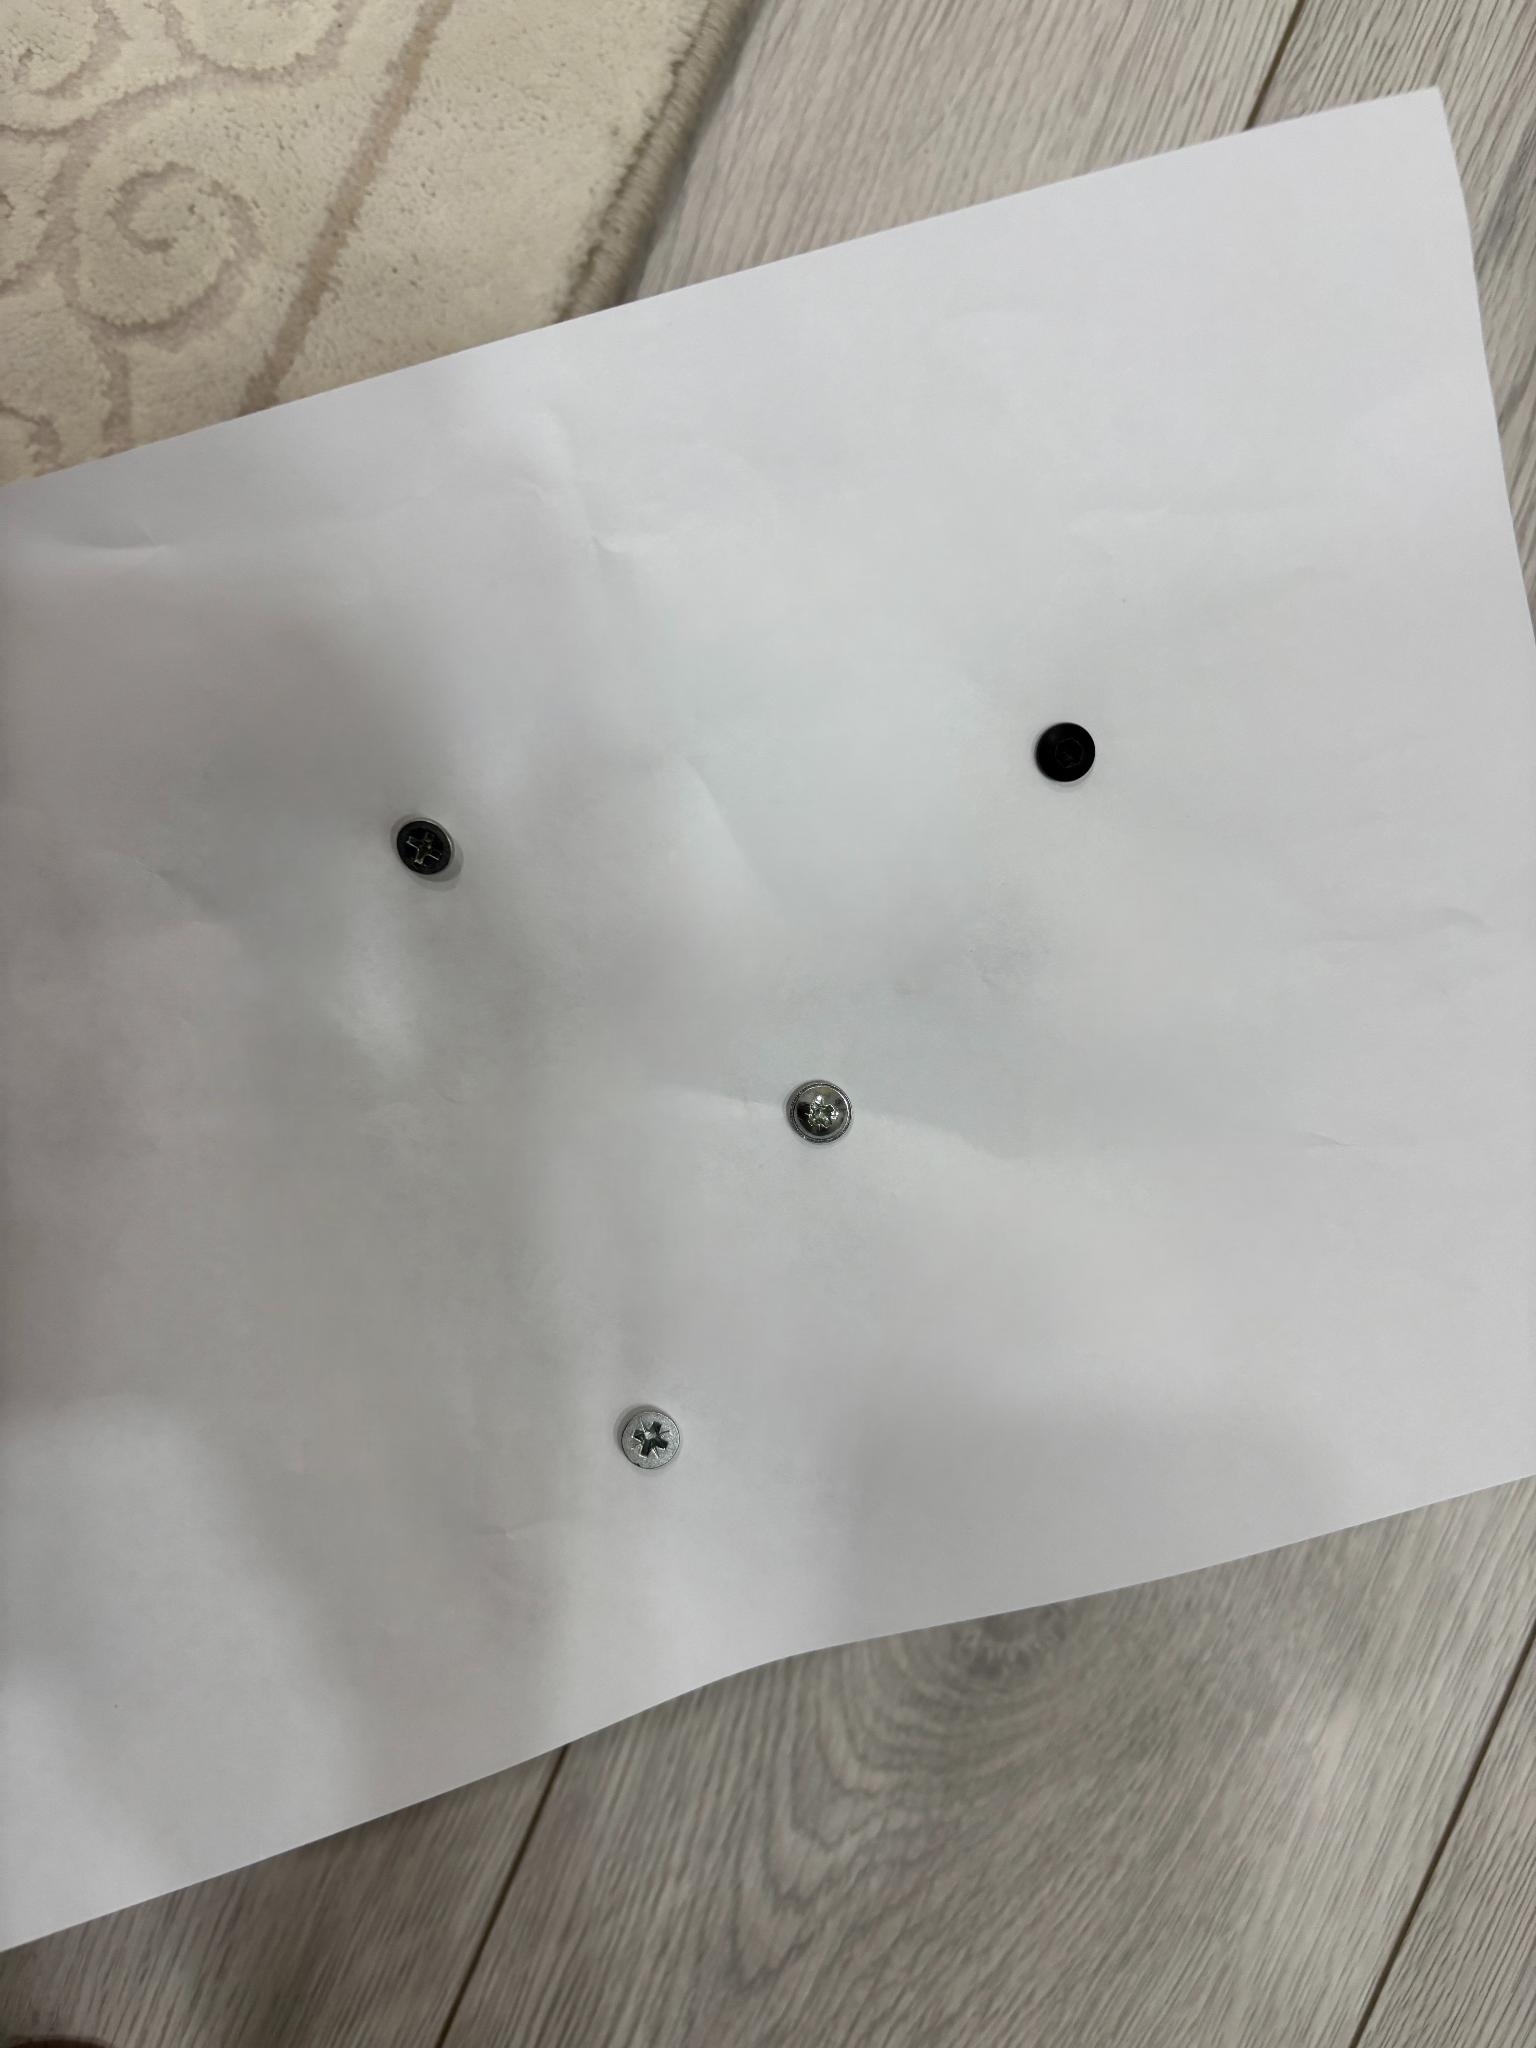H: (1036, 722, 1096, 782)
PH: (397, 819, 453, 874)
PZ: (786, 1080, 852, 1143), (620, 1408, 681, 1471)
